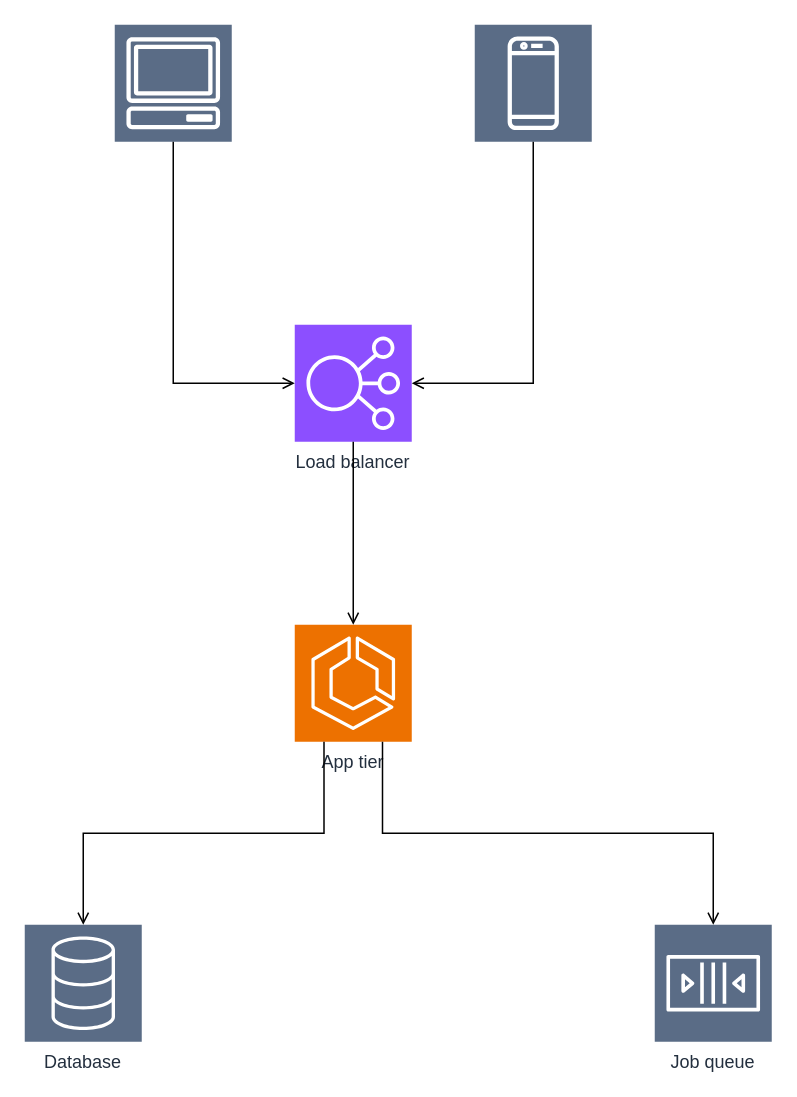
Image size: 797x1097. Some labels were removed from this diagram. The shapes that lost their labels are listed below. From the top down, each one's centre as x and y in pixels, then its label:
point 172,82: Browser
point 532,82: Mobile app
